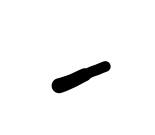minus: (52, 61, 111, 94)
